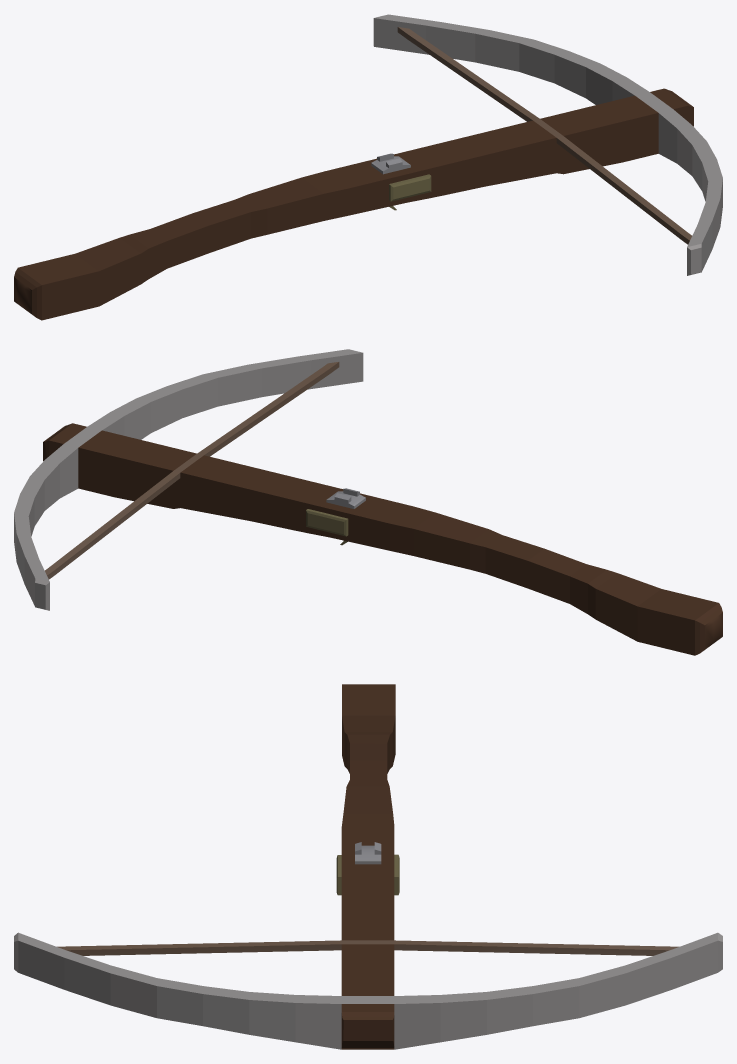
File: Crossbow.FBX
The picture shows the model from 3 angles, top to bottom: view 1: azimuth 30°, elevation 25°; view 2: azimuth 150°, elevation 25°; view 3: azimuth 270°, elevation 25°; orthographic projection. The views are drawn at different scales.
Visible parts, largest first — view 1: Box001; view 2: Box001; view 3: Box001.
Part boxes in pixels (left/top/right/bottom): Box001: left=14, top=14, right=722, bottom=320; Box001: left=14, top=349, right=722, bottom=655; Box001: left=14, top=684, right=722, bottom=1049.
Size of the model in its own units: 55.59 by 5.32 by 46.14.
Materials: 1 (1 with a texture image).
